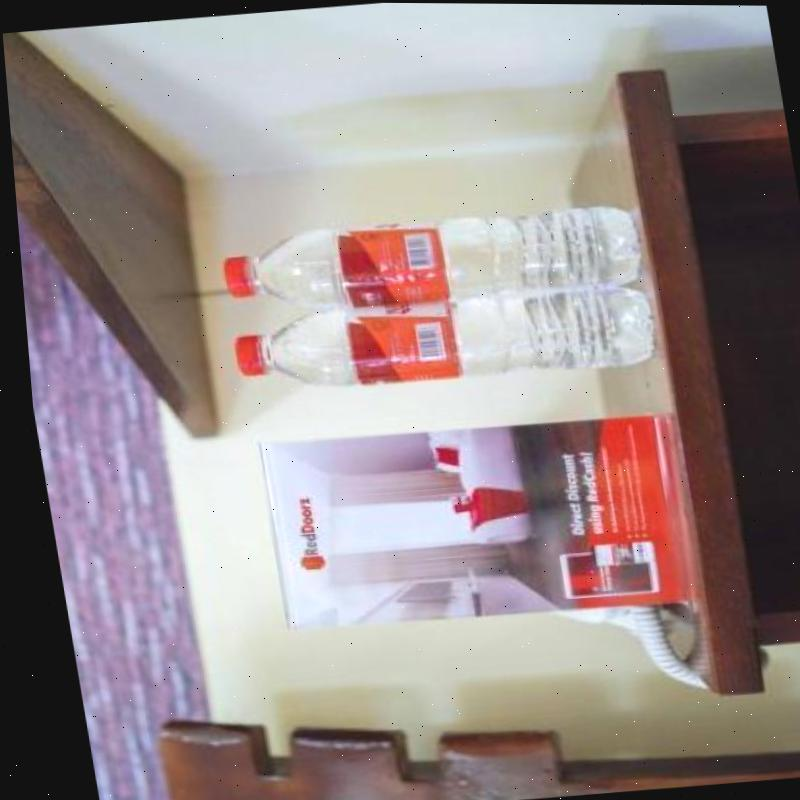botella: (211, 275, 673, 402), (199, 195, 657, 317)
